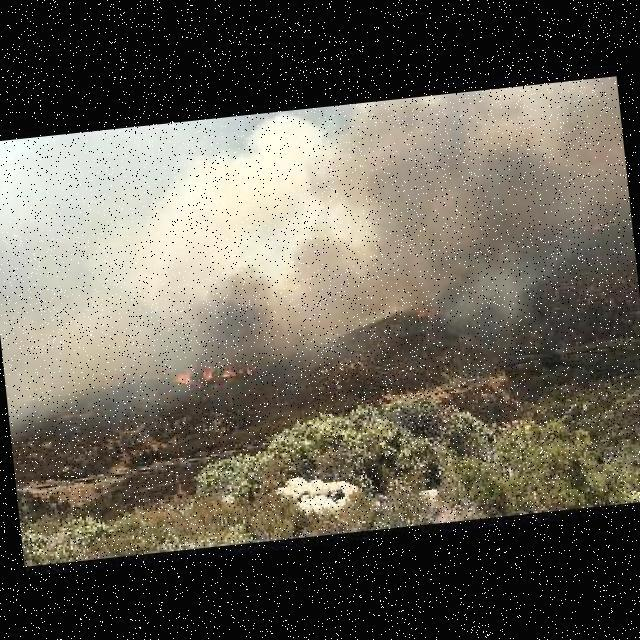Fire: (170, 355, 258, 384), (395, 297, 447, 324)
